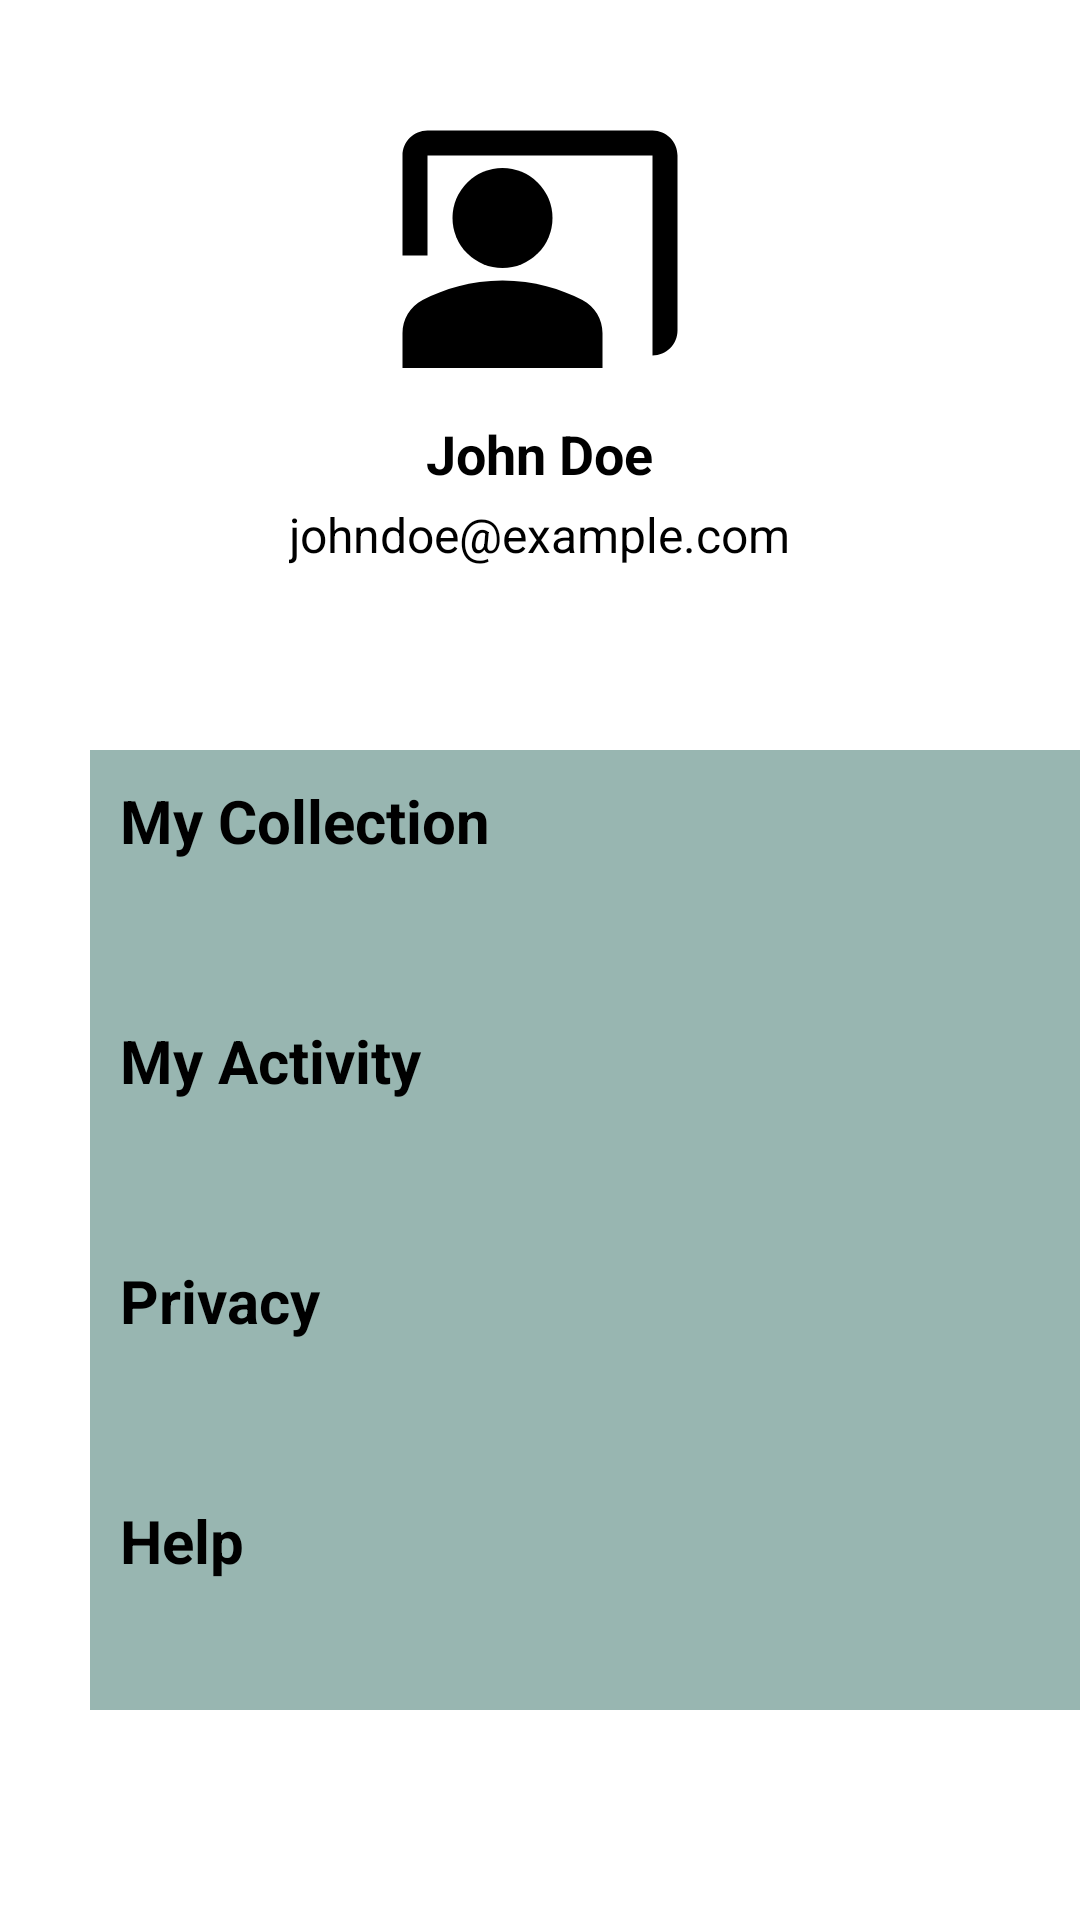

Icons on this 1080w x 1920h Android screen, each with its box as (x1, y1, x2, y2):
profile image: (402, 130, 678, 368)
